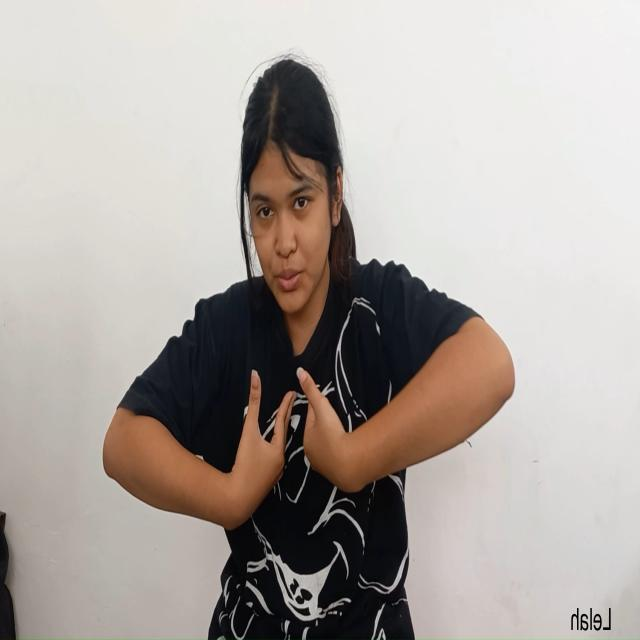Lelah -BISINDO-: (102, 313, 522, 532)
